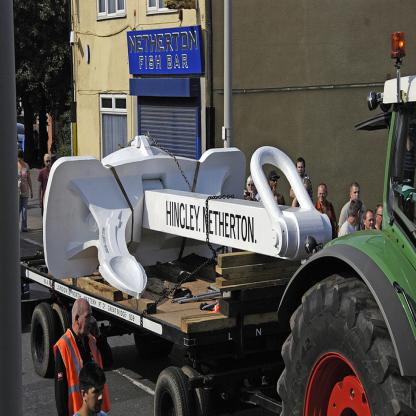Car: (17, 125, 24, 150)
